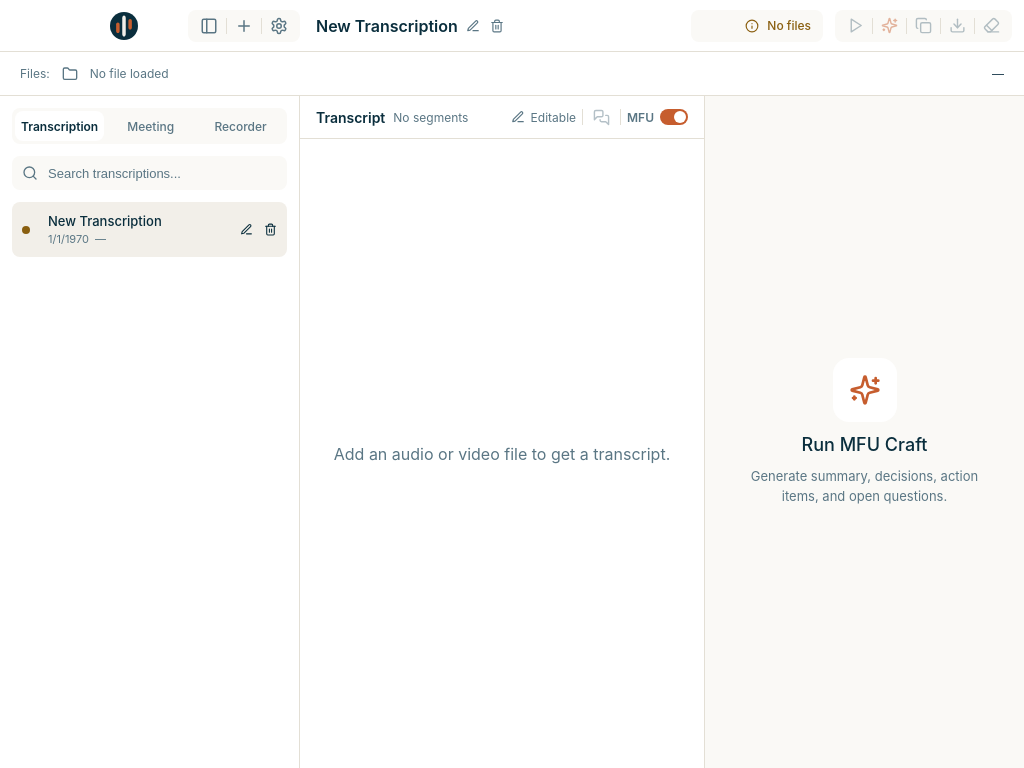
Scenario: App — English strings › shows the detected language only after a meeting has been transcribed
Check: the text "Russian" is not shown
Click the button named "Choose file": point(70, 74) [58,62,82,86]
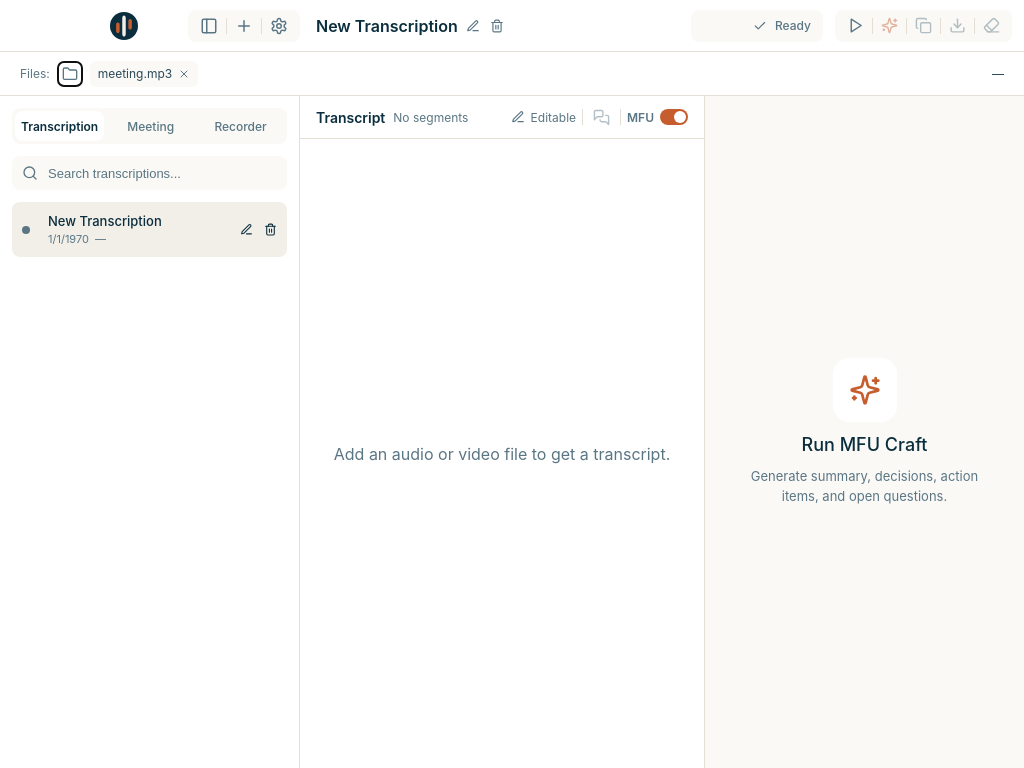
Check: the button named "Transcribe" is enabled
Click the button named "Transcribe": point(856, 26) [843,13,868,38]
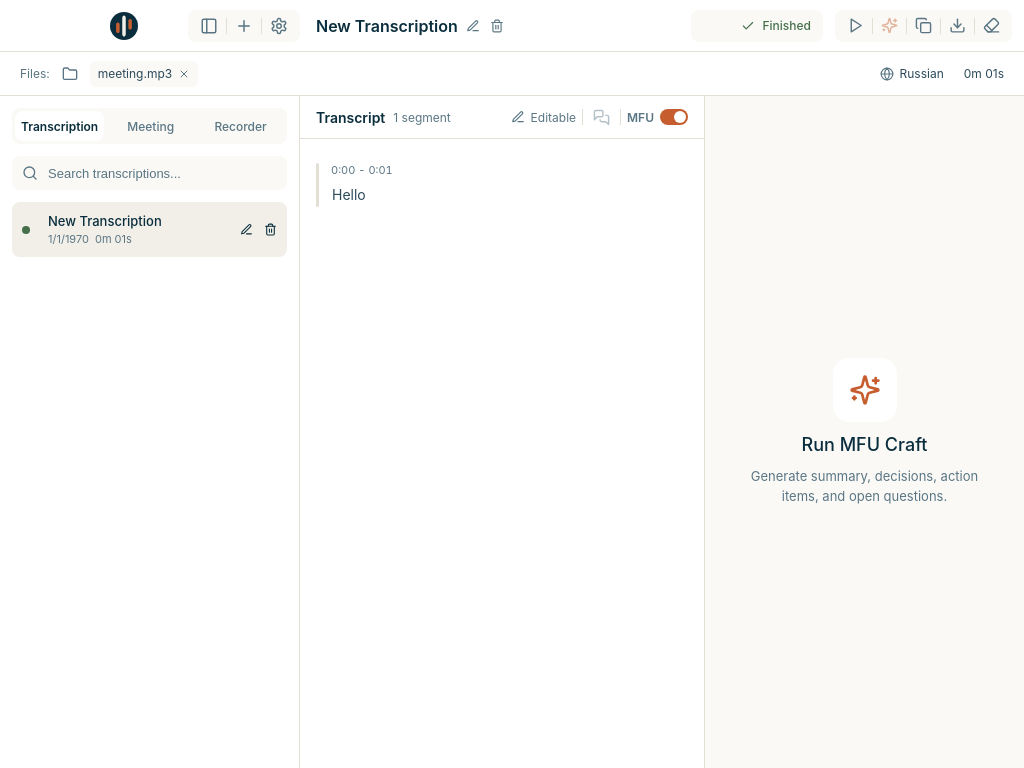
Check: the text "Russian" is shown, box [880,66,944,81]
